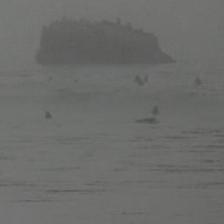surfer: (136, 117, 158, 126), (150, 105, 162, 115), (132, 73, 142, 85), (192, 76, 203, 86), (42, 111, 53, 121)
